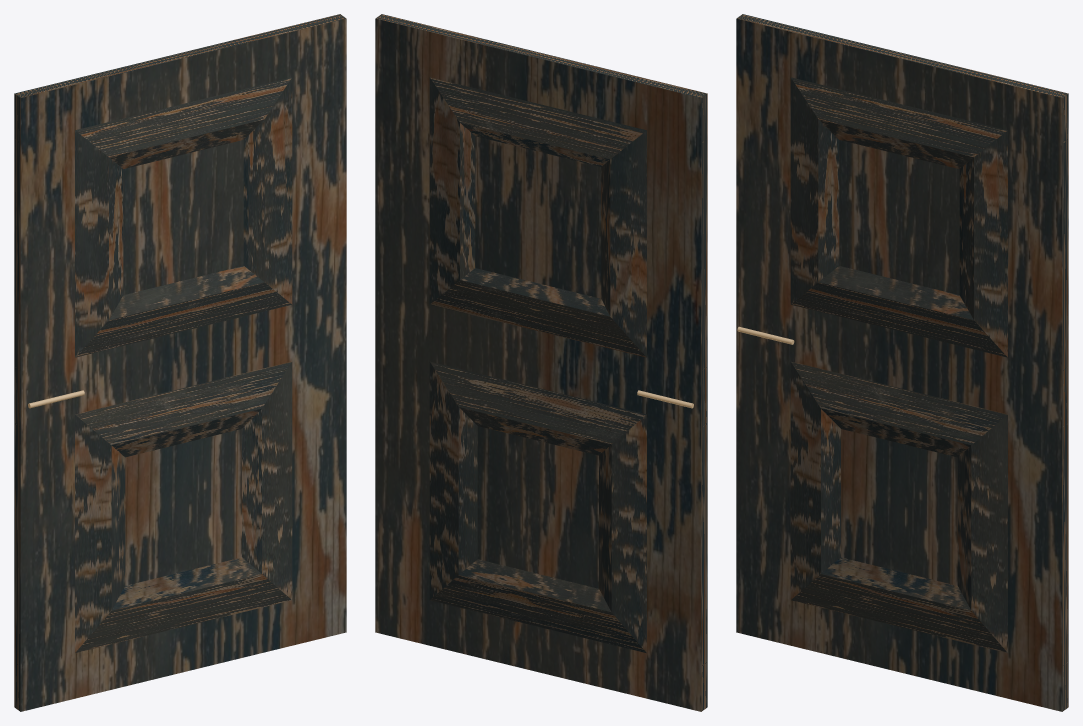
File: Door.glb
3 views of the same model, side by side, from view 1: azimuth 30°, elevation 25°; view 2: azimuth 150°, elevation 25°; view 3: azimuth 330°, elevation 25° (orthographic).
Visible parts, largest first — view 1: Cube; view 2: Cube; view 3: Cube.
Boxes of the visible parts, x1,y1,x2,y2 form: Cube: (14,14,346,711); Cube: (375,14,707,711); Cube: (736,14,1068,711).
Bounding box in the file's own units: 1.5 × 2.7 × 0.12.
Materials: 2 (1 with a texture image).
